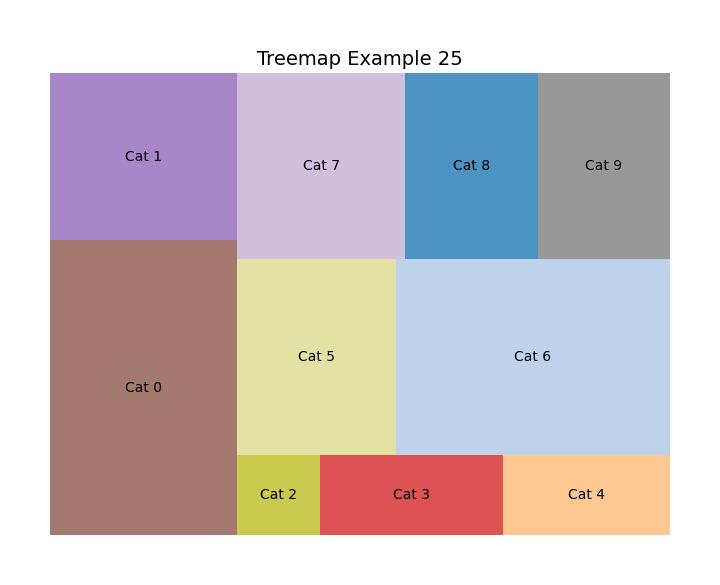rectangle: (50, 237, 238, 537), (396, 261, 670, 456), (49, 72, 237, 239), (237, 73, 402, 261), (241, 262, 397, 455), (537, 71, 670, 261), (404, 72, 537, 260), (319, 455, 505, 534), (504, 456, 672, 535), (240, 457, 319, 536)
